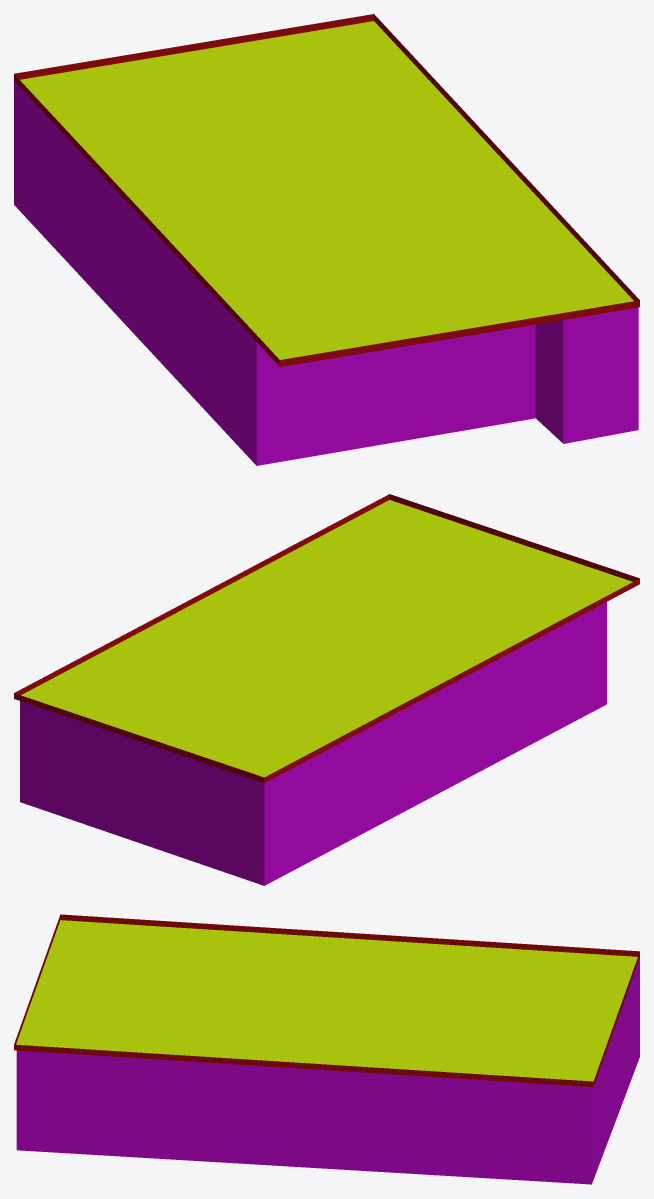
File: rmc_19.glb
3 views of the same model, one above another, from view 1: azimuth 30°, elevation 25°; view 2: azimuth 150°, elevation 25°; view 3: azimuth 270°, elevation 25° (orthographic). The views are drawn at different scales.
Visible parts, largest first — view 1: rmc_19; view 2: rmc_19; view 3: rmc_19.
Part boxes in pixels (x1=…): rmc_19: x1=14, y1=14, x2=639, y2=465; rmc_19: x1=14, y1=494, x2=639, y2=885; rmc_19: x1=14, y1=914, x2=639, y2=1184.
Size of the model in its own units: 22.13 by 6.52 by 35.04.
